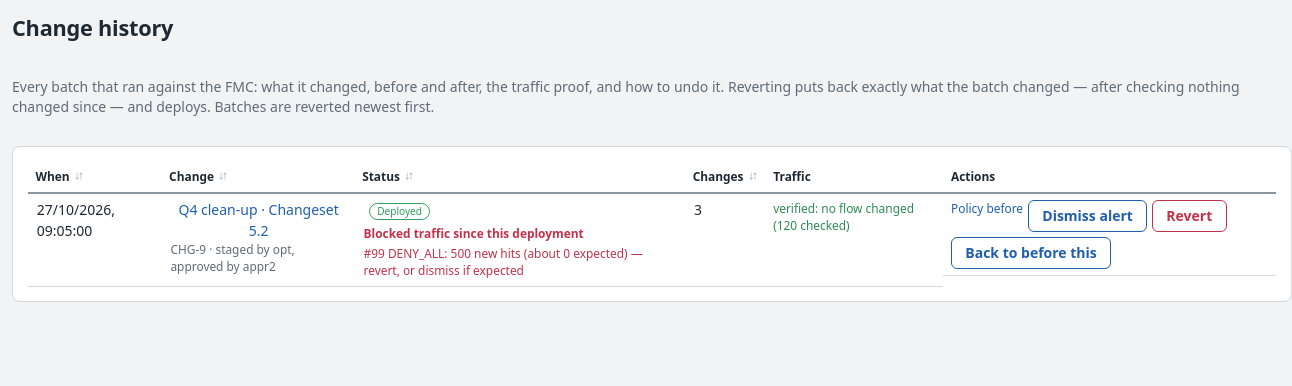
HistoryPage › shows blocked traffic after a deployment and lets the approver dismiss it
The image size is (1292, 386).
expect the text "Blocked traffic since this deployment" shows "#99 DENY_ALL: 500 new hits (about 0 expected)": met, box top-left (364, 225), bottom-right (677, 279)
Click the button "Dismiss alert".
click(1088, 216)  # box top-left (1028, 200), bottom-right (1147, 232)
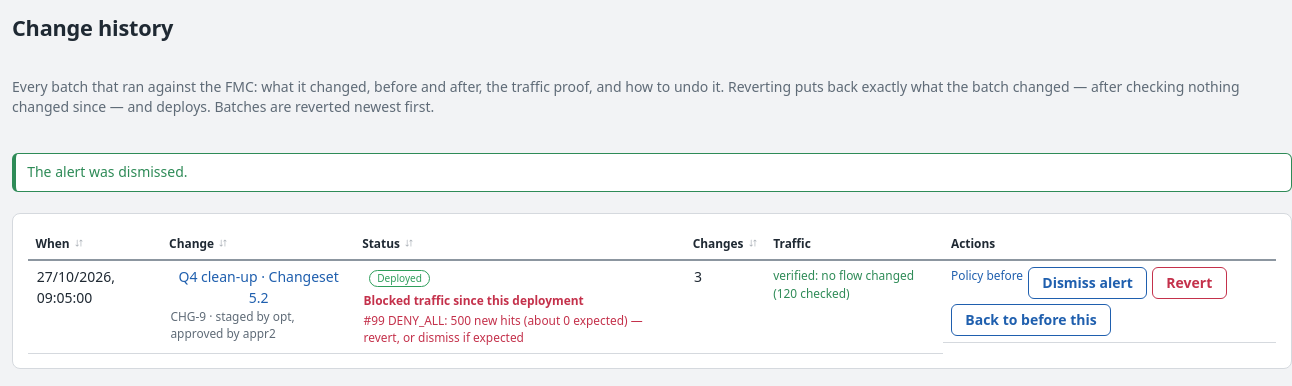
expect the text "The alert was dismissed." is shown: met, box top-left (12, 153), bottom-right (1291, 192)
